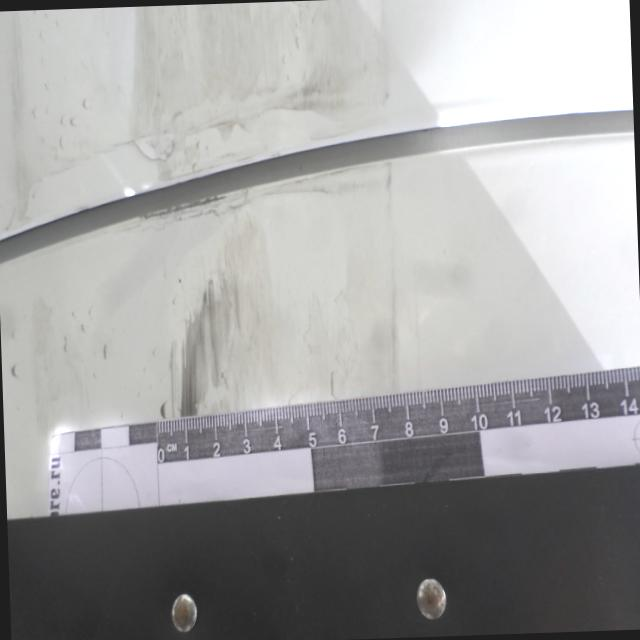Dechirure: (0, 108, 638, 280)
Rayure: (164, 230, 272, 418)
